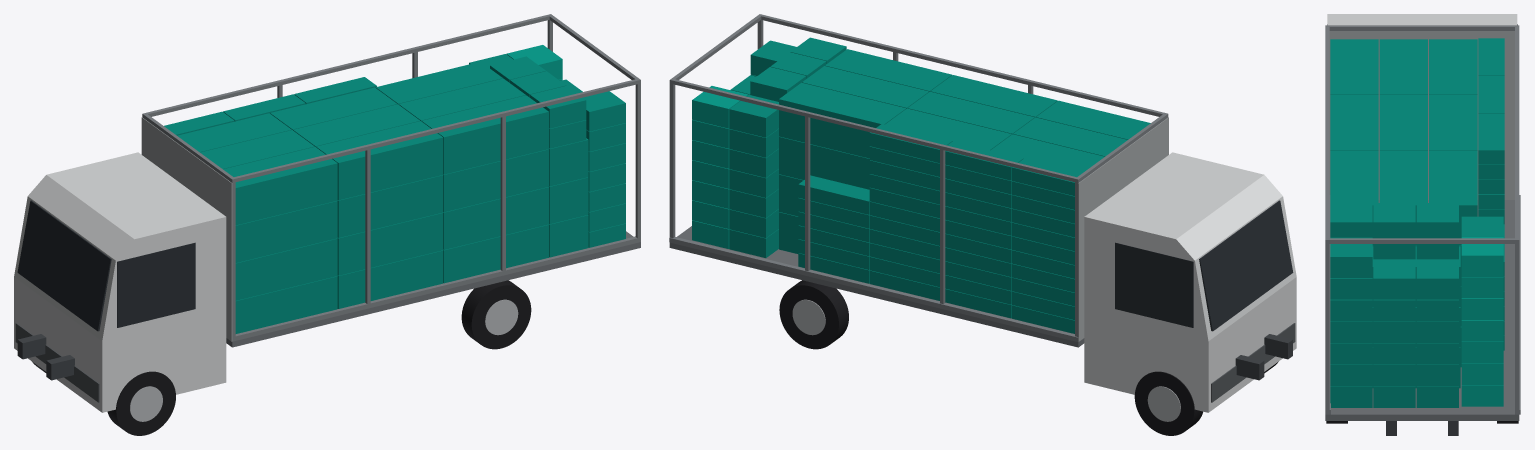
File: caminhao-TR06.glb
3 views of the same model, side by side, from view 1: azimuth 30°, elevation 25°; view 2: azimuth 150°, elevation 25°; view 3: azimuth 270°, elevation 25° (orthographic). The views are drawn at different scales.
Visible parts, largest first — view 1: cabine, part21, part52, part64, part40, janela, frente, part34, part37, part49, part46, part58 (+44 smaller); view 2: cabine, part21, janela, part66, frente, piso, part15, part63, part29, part14, part12, part53 (+77 smaller); view 3: piso, frente, part66, part52, part54, part53, part40, part41, part42, part65, part64, cabine (+50 smaller).
Part boxes in pixels (x1,y1,x2,y2): cabine: (14,152,226,412); part21: (17,200,111,331); part52: (316,121,443,200); part64: (421,95,548,174); part40: (223,147,337,225); janela: (117,242,195,327); frente: (141,117,232,341); part34: (235,238,337,300); part37: (235,200,337,262); part49: (337,175,443,237); part46: (337,212,443,275); part58: (443,187,548,249); cabine: (1084,152,1296,412); part21: (1199,200,1293,331); janela: (1115,242,1193,327); part66: (779,82,906,158); frente: (1078,117,1168,341); piso: (669,226,1084,347); part15: (669,237,1078,341); part63: (779,136,869,189); part29: (779,280,848,349); part14: (669,78,1080,182); part12: (758,14,1168,118); part53: (907,91,1034,134); piso: (1325,200,1519,420); frente: (1329,31,1514,199); part66: (1429,150,1477,245); part52: (1330,94,1378,150); part54: (1429,94,1477,150); part53: (1379,94,1427,150); part40: (1330,39,1378,94); part41: (1379,39,1427,94); part42: (1429,39,1477,94); part65: (1379,150,1427,245); part64: (1330,150,1378,245); cabine: (1327,14,1517,25).
Size of the model in its own units: 9.04 by 3.61 by 2.53.
